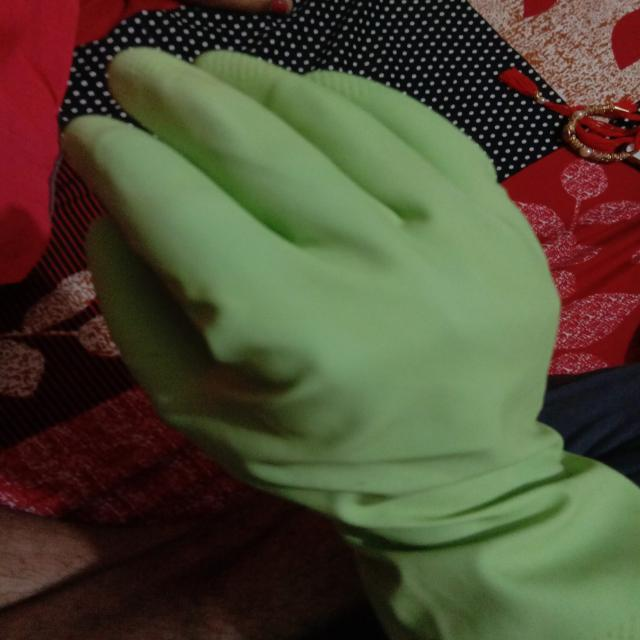gloved_hand: (54, 38, 640, 637)
